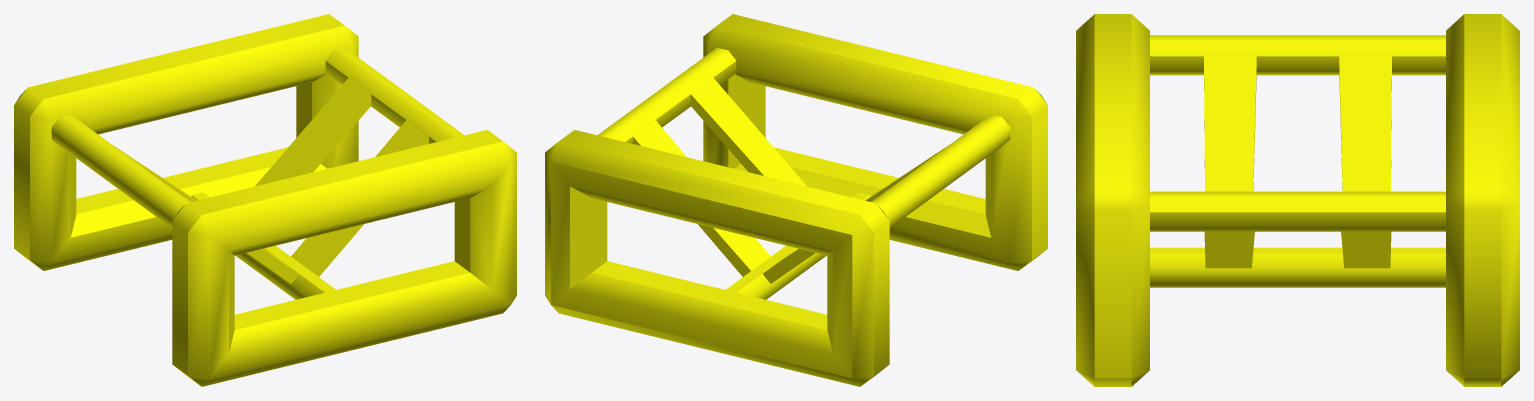
Rendered from kaykit-dishrack.glb.
3 views of the same model, side by side, from view 1: azimuth 30°, elevation 25°; view 2: azimuth 150°, elevation 25°; view 3: azimuth 270°, elevation 25° (orthographic). The views are drawn at different scales.
Visible parts, largest first — view 1: dishrack; view 2: dishrack; view 3: dishrack.
Boxes of the visible parts, x1,y1,x2,y2 form: dishrack: (14, 14, 516, 386); dishrack: (545, 14, 1047, 386); dishrack: (1076, 14, 1519, 386).
Bounding box in the file's own units: 1.2 × 0.6001 × 1.2.
